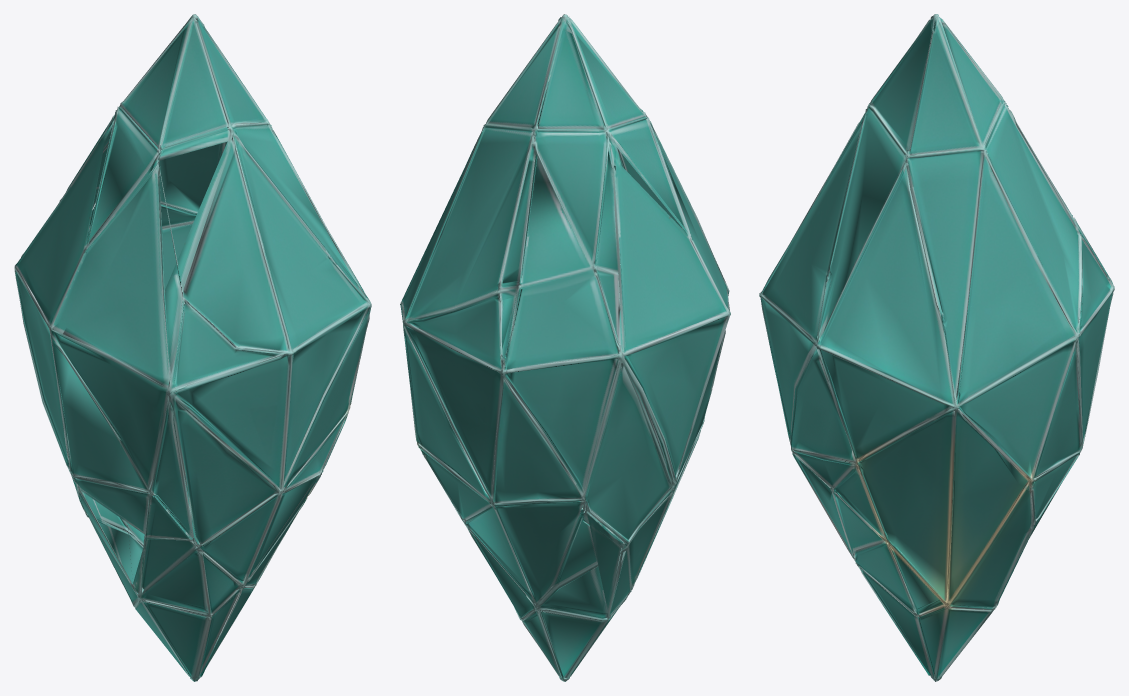
The model's file is core.glb.
3 renders of one model, left to right at view 1: azimuth 30°, elevation 25°; view 2: azimuth 150°, elevation 25°; view 3: azimuth 270°, elevation 25°, orthographic.
Parts seen in each view (by area): view 1: tripo_node_ac6d090f-e47c-4a56-8742-24c7478f6b16; view 2: tripo_node_ac6d090f-e47c-4a56-8742-24c7478f6b16; view 3: tripo_node_ac6d090f-e47c-4a56-8742-24c7478f6b16.
Boxes of the visible parts, x1,y1,x2,y2 form: tripo_node_ac6d090f-e47c-4a56-8742-24c7478f6b16: (14,14,371,681); tripo_node_ac6d090f-e47c-4a56-8742-24c7478f6b16: (400,14,730,681); tripo_node_ac6d090f-e47c-4a56-8742-24c7478f6b16: (759,14,1114,681).
Bounding box in the file's own units: 0.4824 × 0.998 × 0.4824.
Materials: 1 (1 with a texture image).
